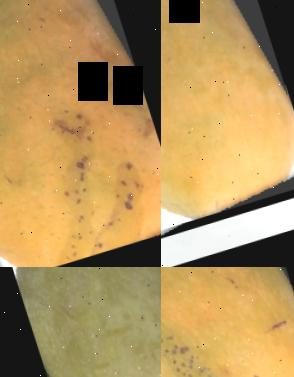PartiallyRipe: (0, 0, 161, 267), (161, 0, 294, 250), (161, 267, 294, 377)
Unripe: (0, 267, 161, 377)
